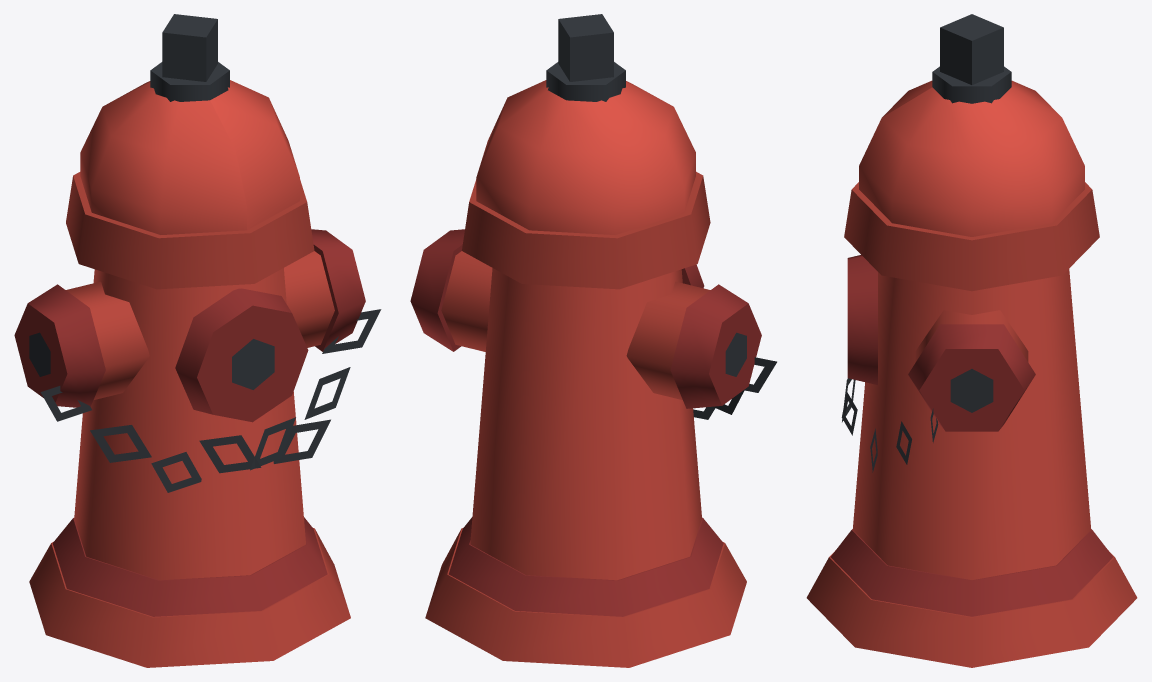
File: fire-hydrant.glb
3 renders of one model, left to right at view 1: azimuth 30°, elevation 25°; view 2: azimuth 150°, elevation 25°; view 3: azimuth 270°, elevation 25°, orthographic.
Parts seen in each view (by area): view 1: Merged_prop-body, Merged_prop-body-deep, Merged_prop-accent, Merged_city-metal-dark, Merged_hydrant-chain; view 2: Merged_prop-body, Merged_prop-body-deep, Merged_prop-accent, Merged_city-metal-dark, Merged_hydrant-chain; view 3: Merged_prop-body, Merged_prop-body-deep, Merged_prop-accent, Merged_city-metal-dark, Merged_hydrant-chain.
Boxes of the visible parts, <box> form: Merged_prop-body: <box>74,80,305,580</box>; Merged_prop-body-deep: <box>29,172,350,667</box>; Merged_prop-accent: <box>14,229,365,616</box>; Merged_city-metal-dark: <box>29,14,274,389</box>; Merged_hydrant-chain: <box>40,309,381,492</box>; Merged_prop-body: <box>470,80,701,580</box>; Merged_prop-body-deep: <box>425,171,746,667</box>; Merged_prop-accent: <box>410,229,761,616</box>; Merged_city-metal-dark: <box>546,14,746,376</box>; Merged_hydrant-chain: <box>693,357,776,419</box>; Merged_prop-body: <box>852,80,1091,579</box>; Merged_prop-body-deep: <box>806,182,1137,667</box>; Merged_prop-accent: <box>831,255,1112,616</box>; Merged_city-metal-dark: <box>932,14,1011,412</box>; Merged_hydrant-chain: <box>841,378,938,472</box>.
Size of what is drawn, in the model's own units: 1.04 by 1.67 by 0.88.
